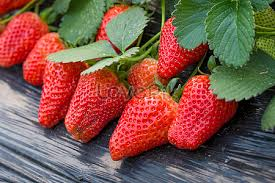ripe: (166, 71, 241, 150), (107, 90, 178, 162), (64, 65, 128, 143), (36, 55, 86, 129), (158, 10, 206, 80), (22, 29, 67, 85), (0, 13, 44, 67), (94, 2, 139, 47)
unripe: (126, 54, 164, 95)
